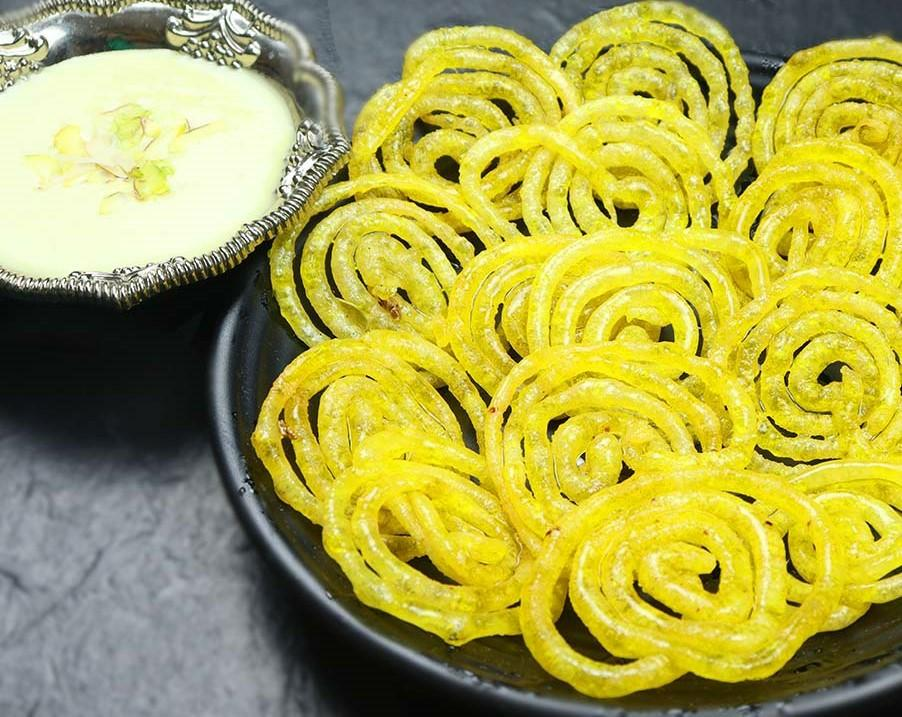Jalebi: (252, 0, 902, 700)
